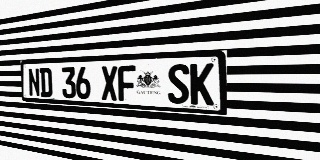3: (61, 67, 76, 99)
6: (75, 66, 91, 99)
D: (39, 68, 52, 97)
F: (118, 65, 136, 102)
K: (190, 63, 214, 105)
N: (28, 68, 40, 97)
S: (167, 64, 189, 104)
X: (101, 66, 118, 101)
